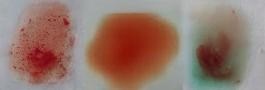D: (9, 3, 73, 86)
